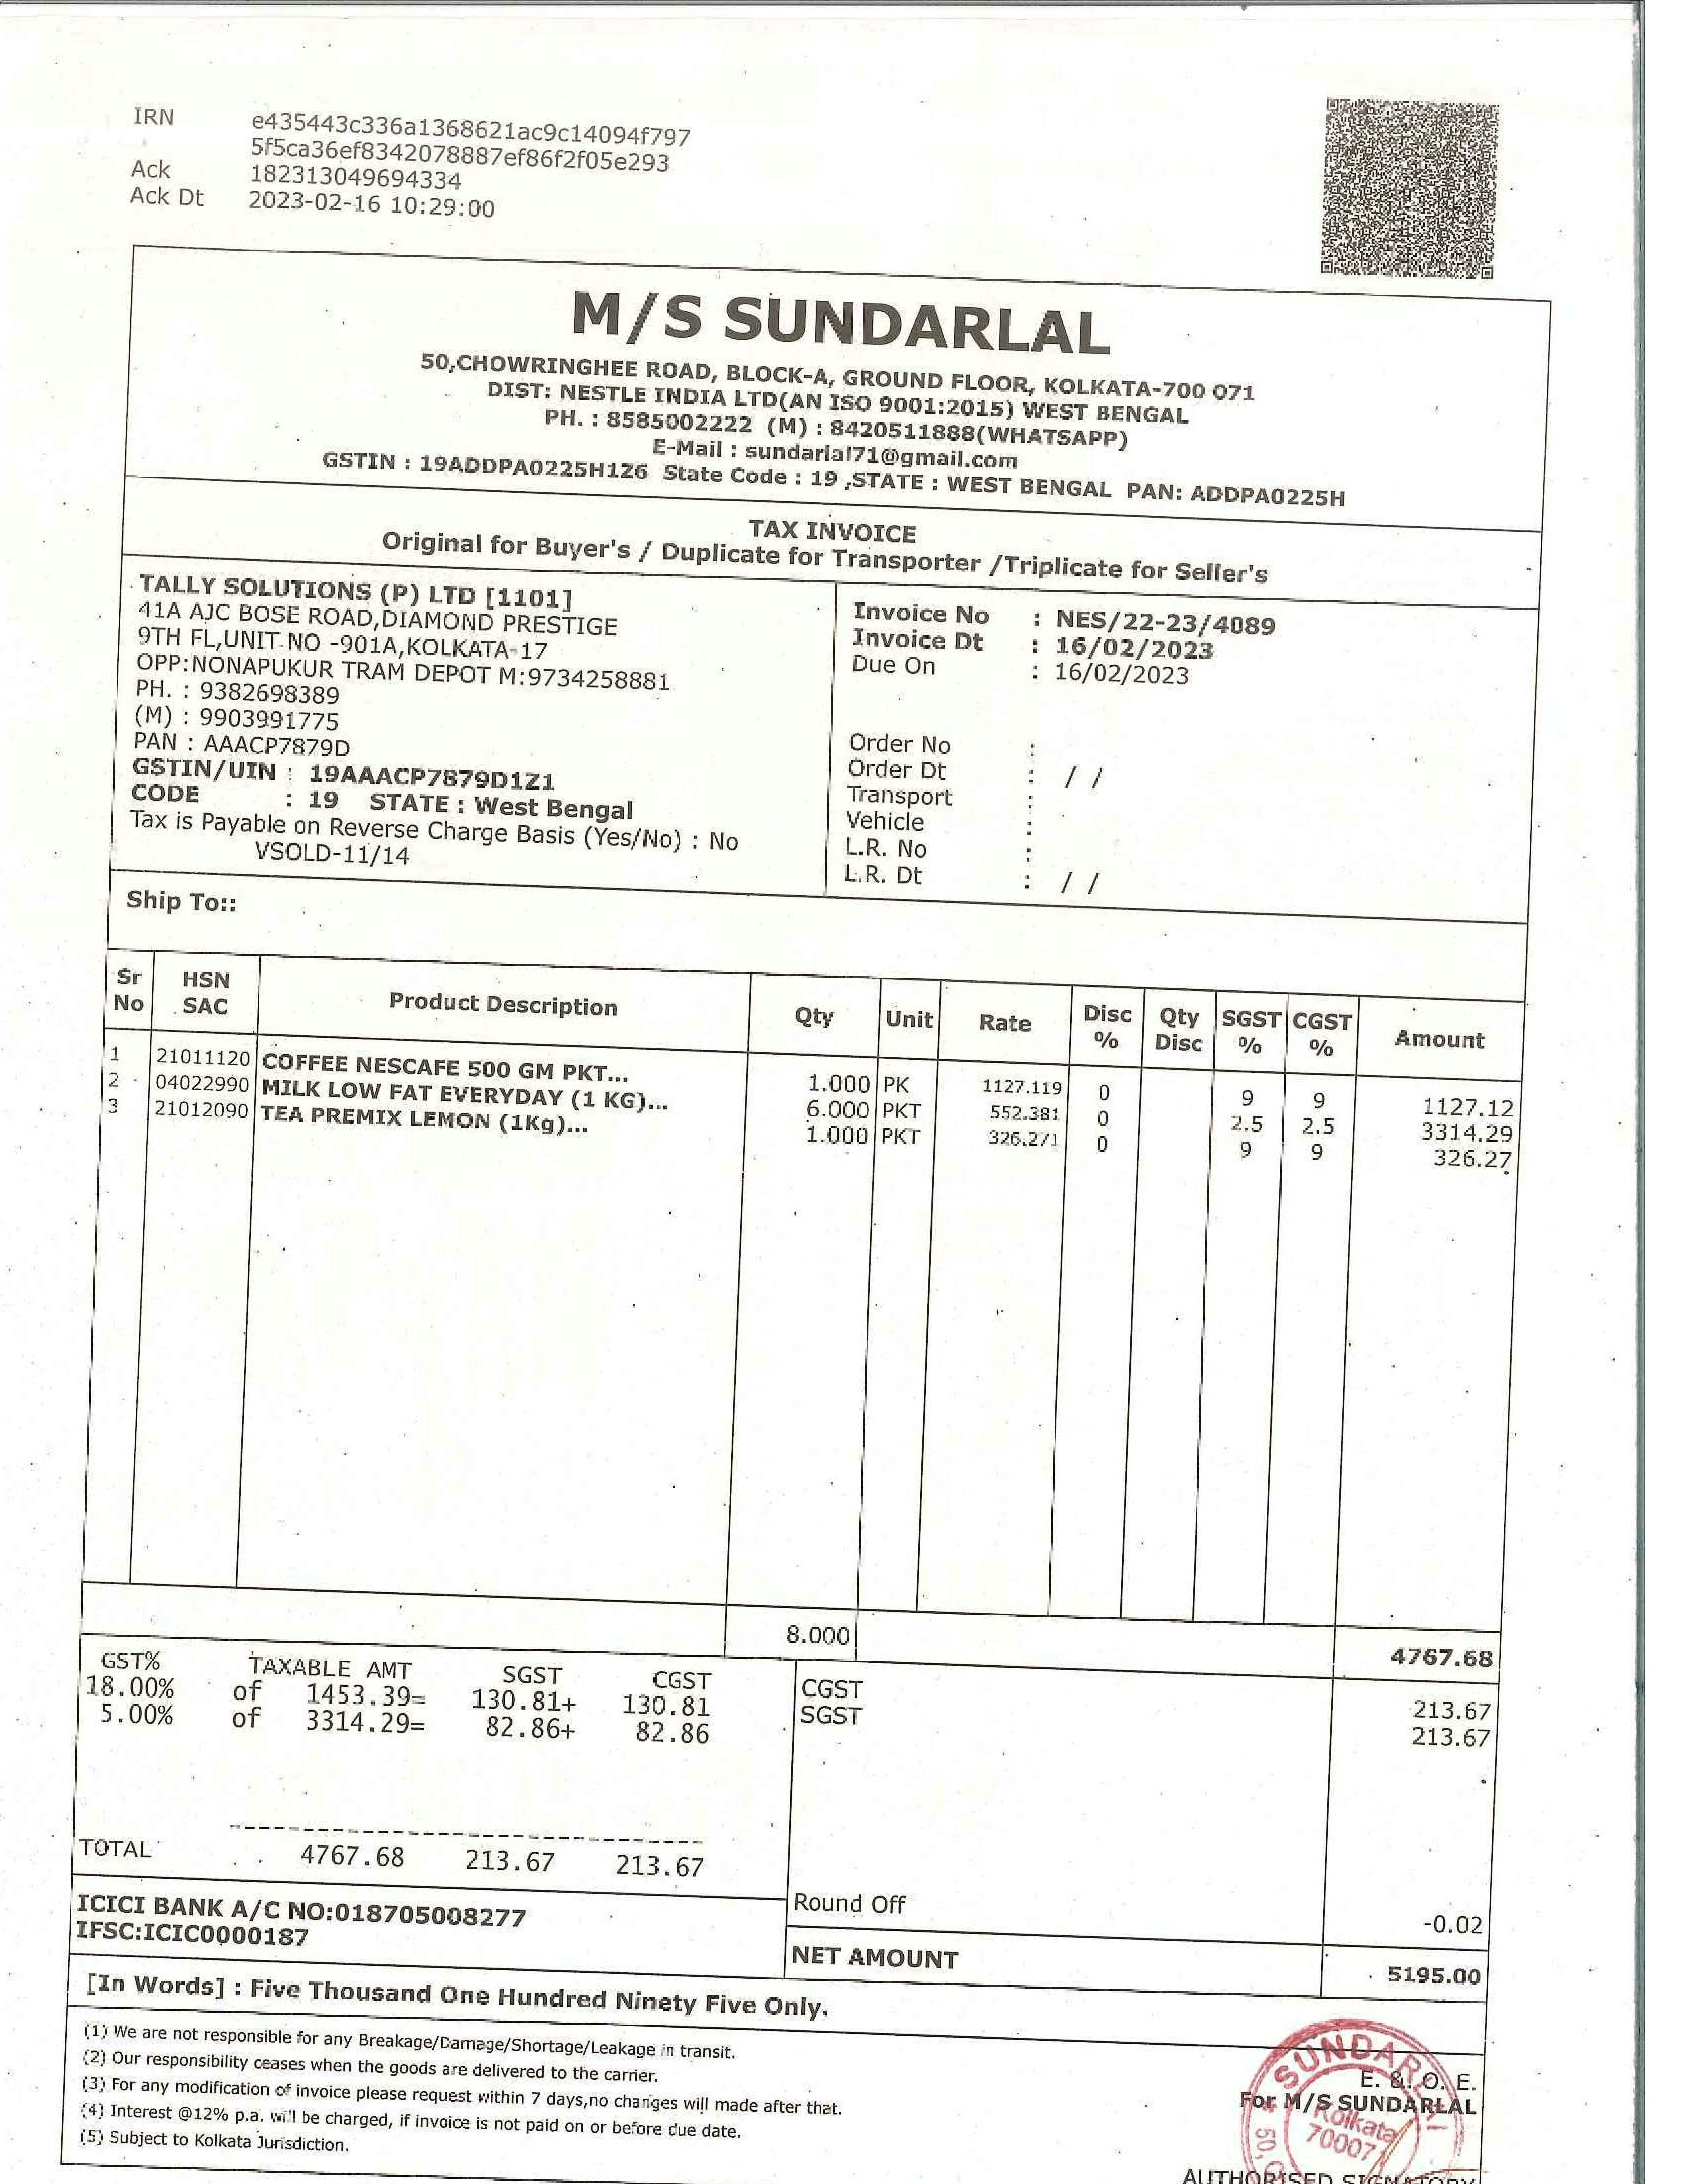InvoiceDate: (1046, 638, 1220, 661)
InvoiceNumber: (1053, 604, 1282, 638)
TotalAmount: (1381, 1957, 1477, 1993)
